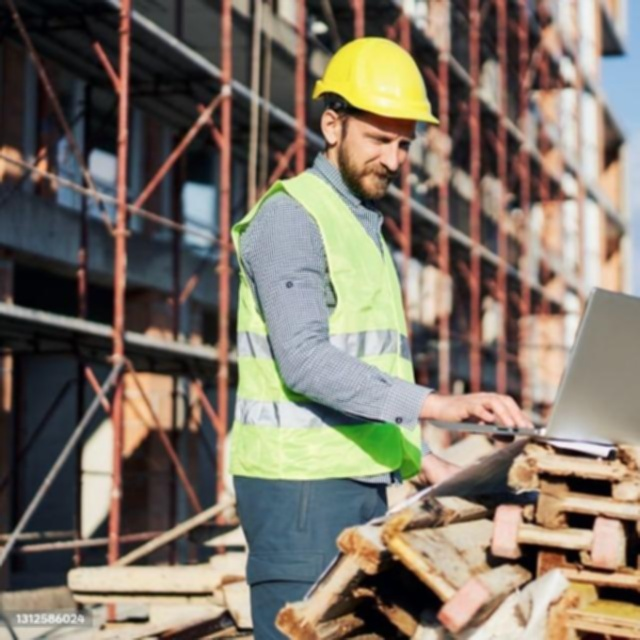Con_Casco: (314, 34, 440, 194)
Con_Chaleco: (231, 182, 429, 483)
